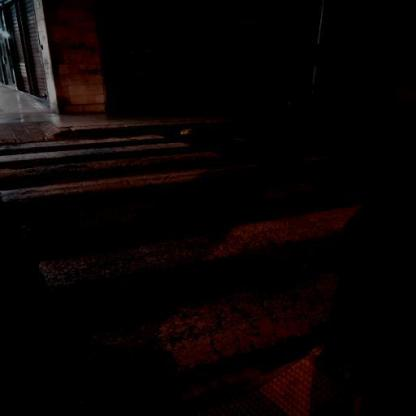crosswalk: (0, 159, 334, 242)
